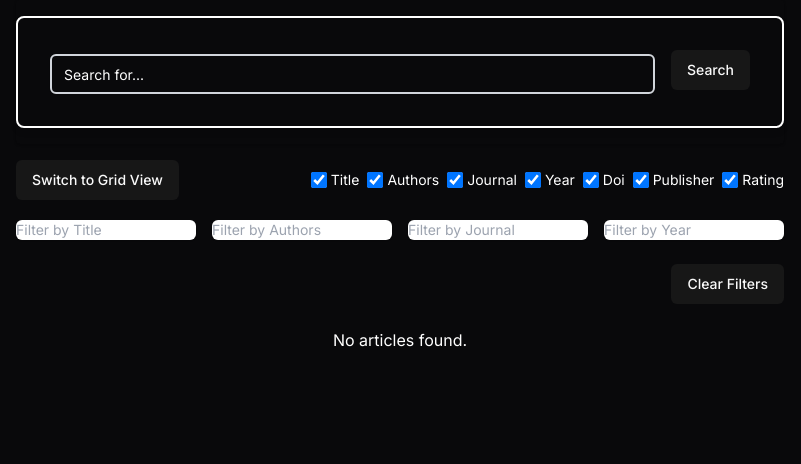
Scenario: SearchPage › toggles the visibility of columns
Note: Submit search
Type "test" into the field with placeholder "Search for..." at (352, 74), box [50,54,655,94]
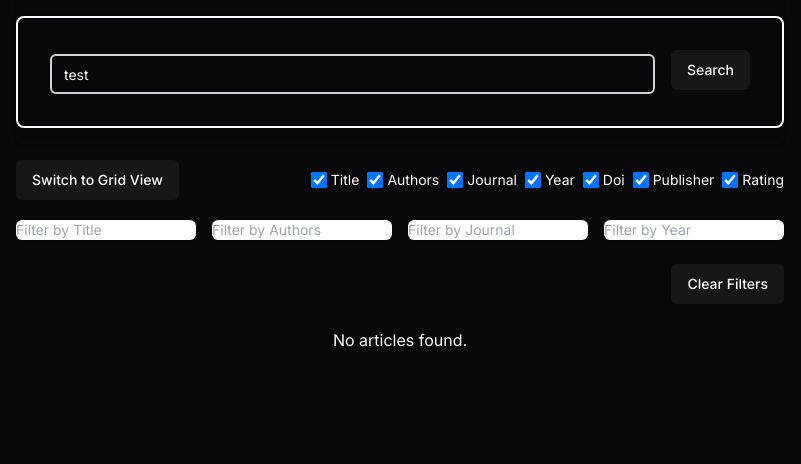
Click the button "Search" at (710, 70), box [671,50,750,90]
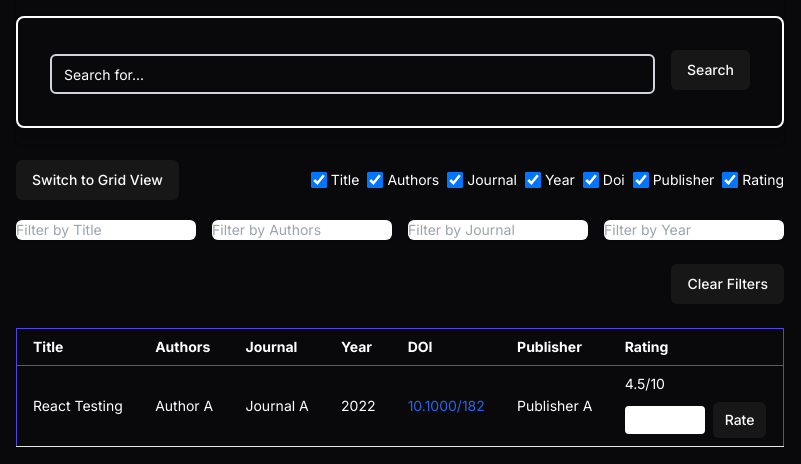
Result: the text "React Testing" is shown at [16,366,139,446]
Note: Deselect the 'Authors' column
Click the checkbox labelled "Authors" at (375, 180), box [367,172,383,188]
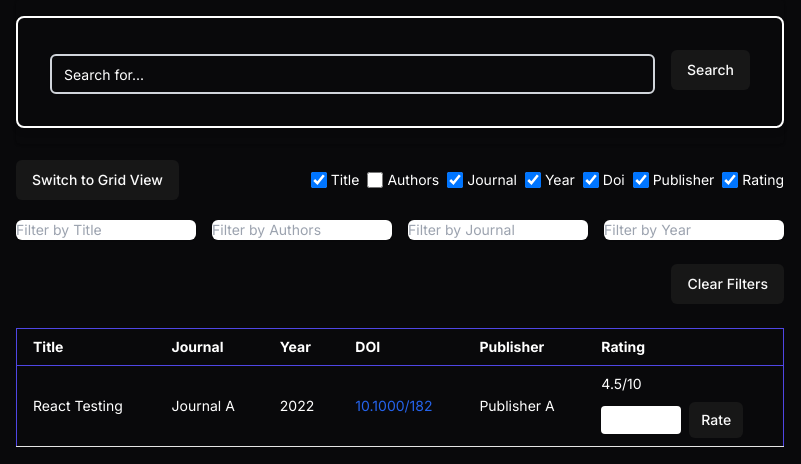
Result: the text "Author A" is gone
Note: Reselect the 'Authors' column
Click the checkbox labelled "Authors" at (375, 180), box [367,172,383,188]
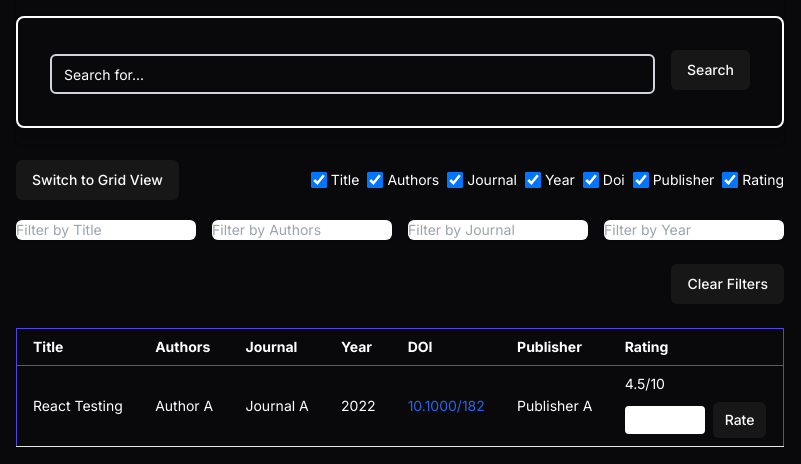
Result: the text "Author A" is shown at [139,366,230,446]
